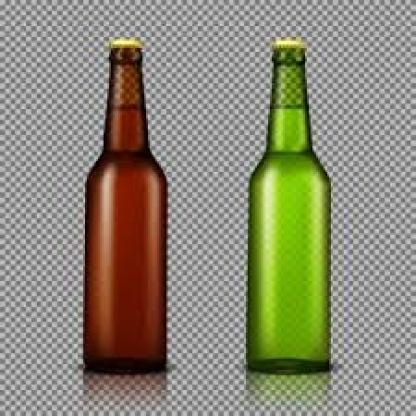trash: (247, 37, 330, 372), (83, 38, 166, 371)
